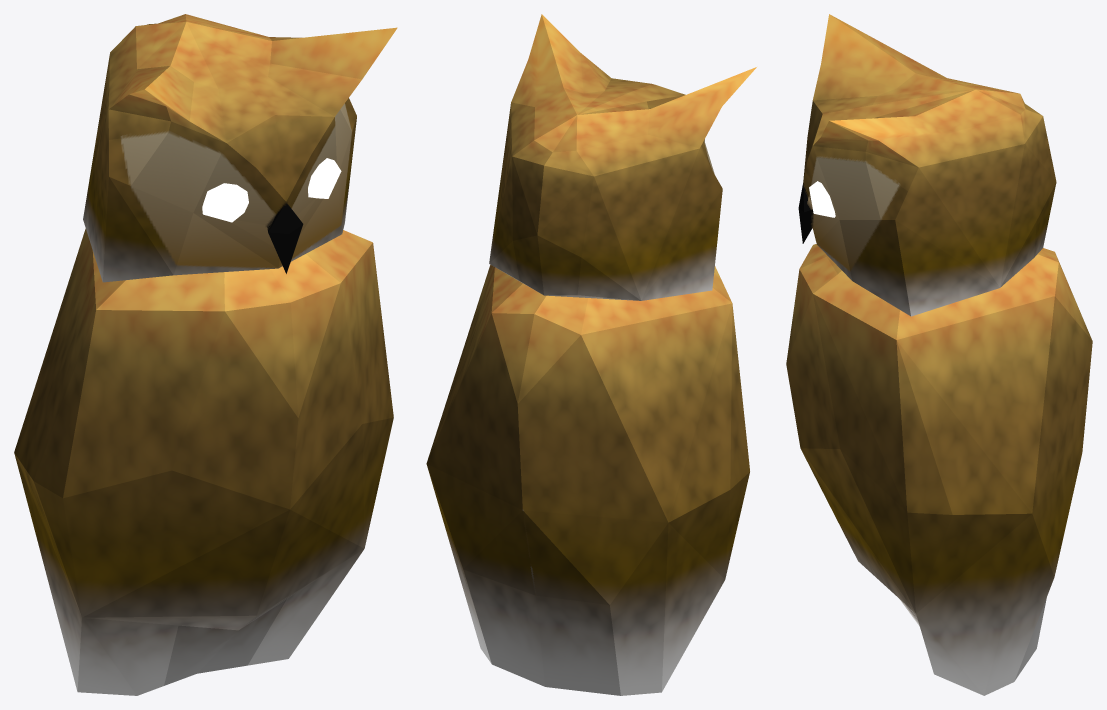
The model's file is Owl.fbx.
3 views of the same model, side by side, from view 1: azimuth 30°, elevation 25°; view 2: azimuth 150°, elevation 25°; view 3: azimuth 270°, elevation 25° (orthographic). The views are drawn at different scales.
Parts seen in each view (by area): view 1: Icosphere.033; view 2: Icosphere.033; view 3: Icosphere.033.
Boxes of the visible parts, x1,y1,x2,y2 form: Icosphere.033: [14, 14, 397, 695]; Icosphere.033: [426, 14, 756, 695]; Icosphere.033: [786, 14, 1092, 695].
Bounding box in the file's own units: 486 × 930 × 443.
